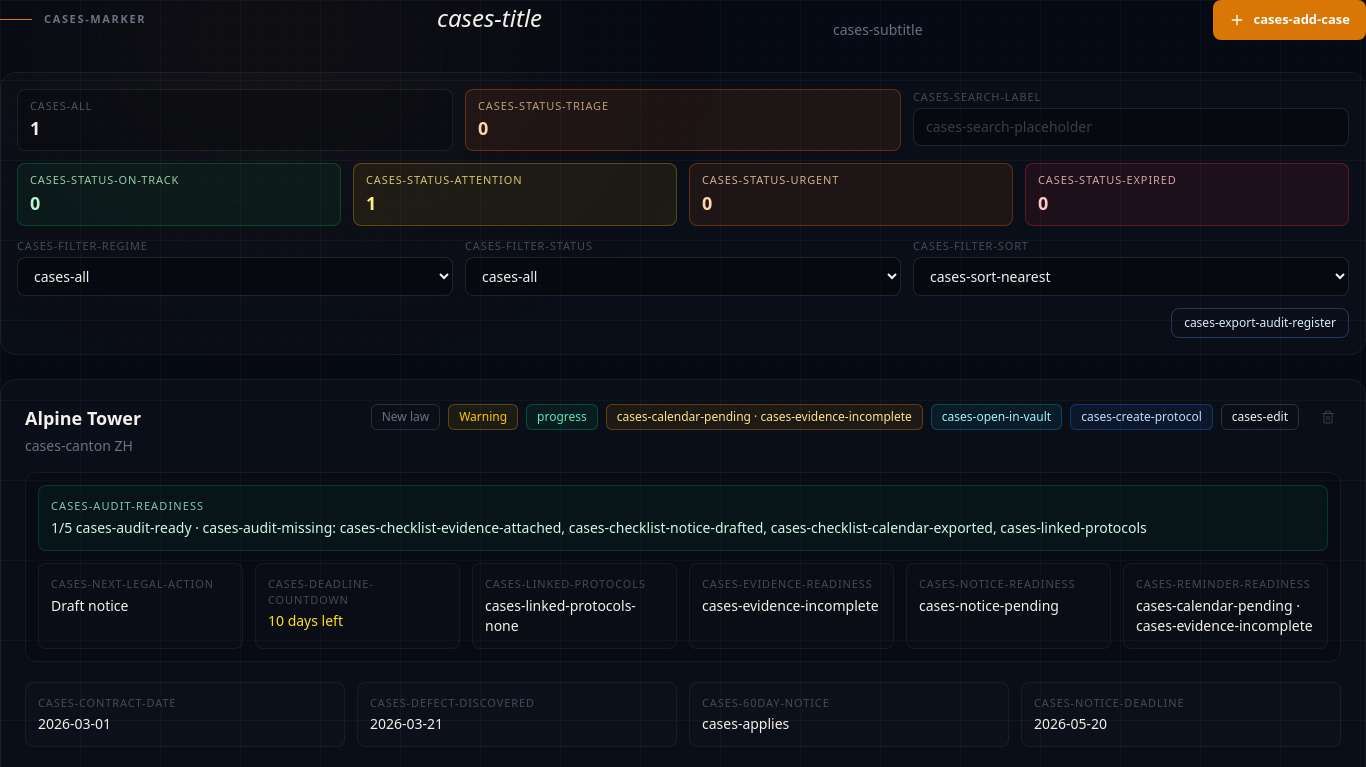
Test: cases mutation feedback › does not persist invalid acceptance chronology: cases-acceptance-after-discovery
The width and height of the screenshot is (1366, 767).
Check: the heading "Alpine Tower" is shown, box [25,404,141,432]
Click the button "cases-add-case" at {"x": 1290, "y": 20}, box [1214,0,1365,40]
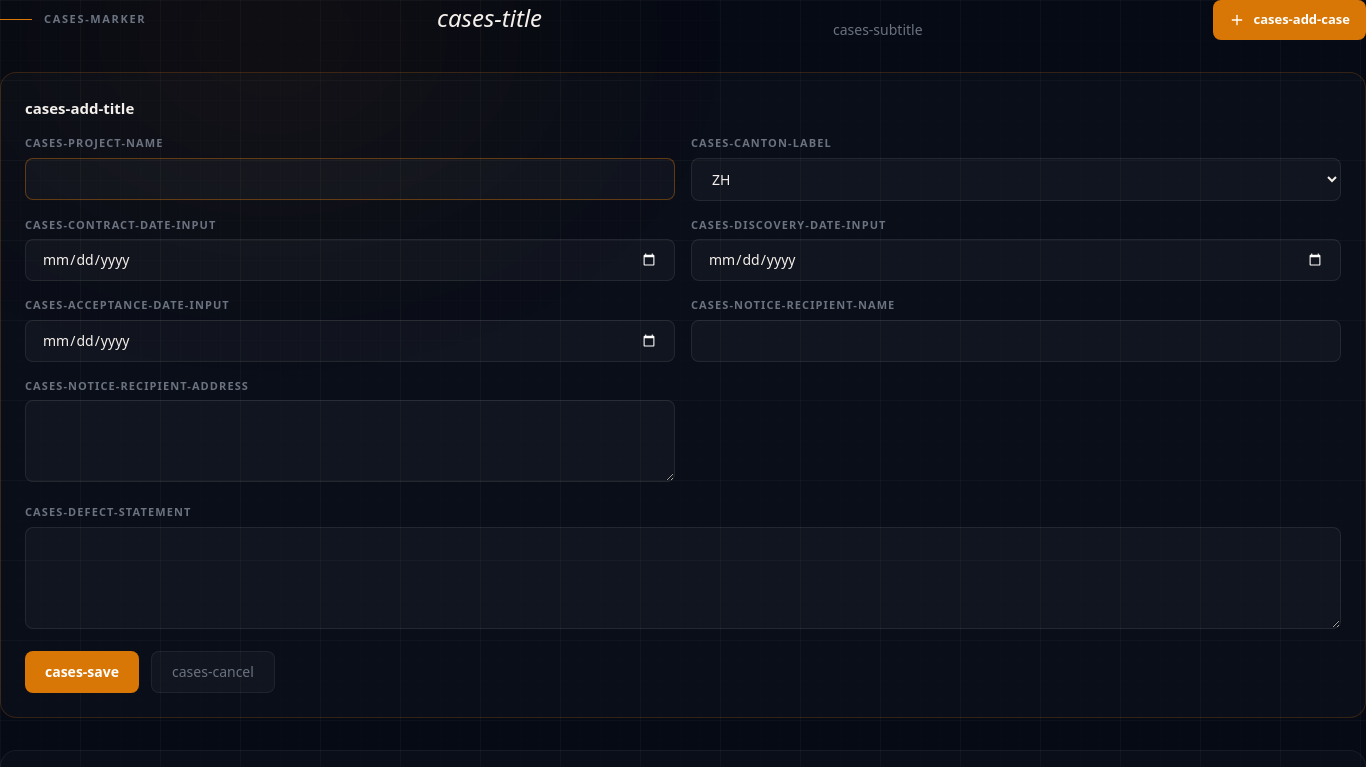
Type "Invalid acceptance" into the field labelled "cases-project-name" at {"x": 350, "y": 178}, box [25,158,675,200]
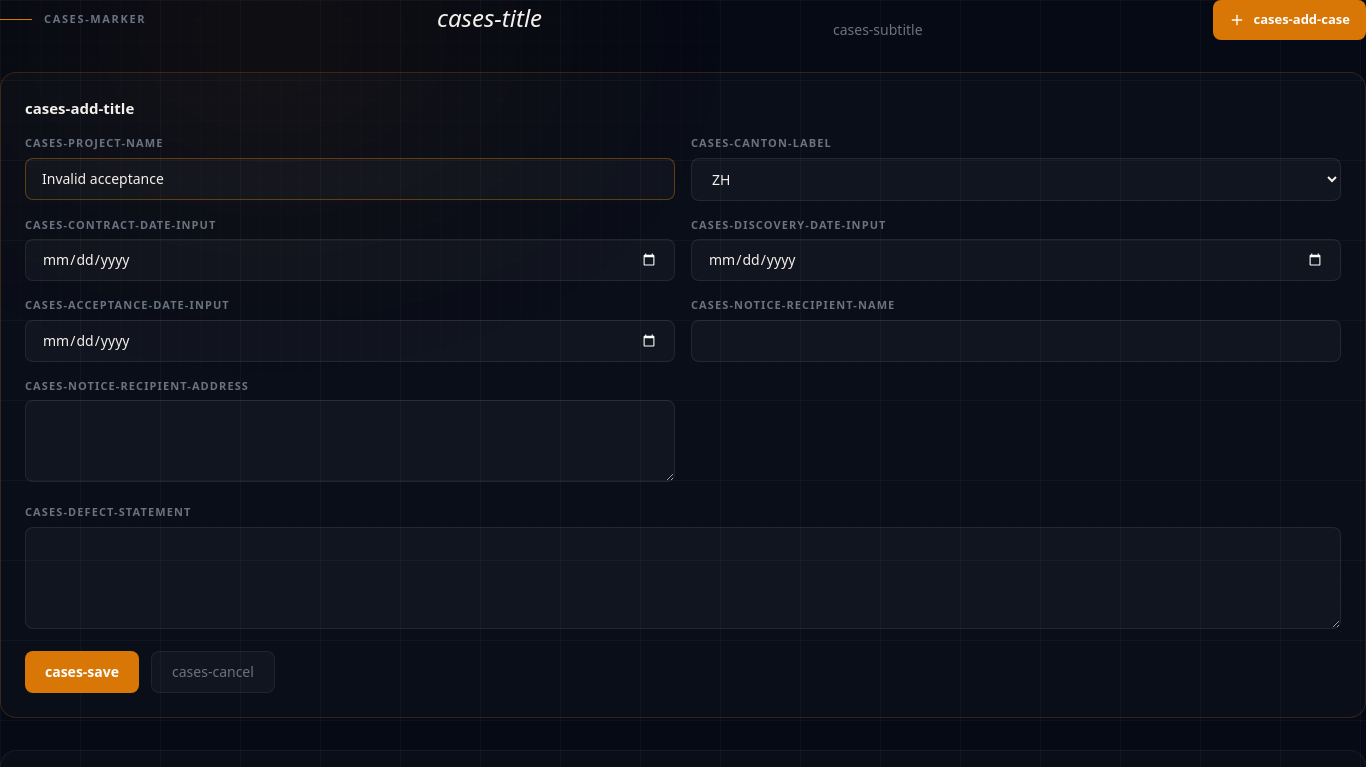
Type "2026-04-01" into the date field labelled "cases-contract-date-input" at {"x": 350, "y": 260}, box [25,239,675,281]
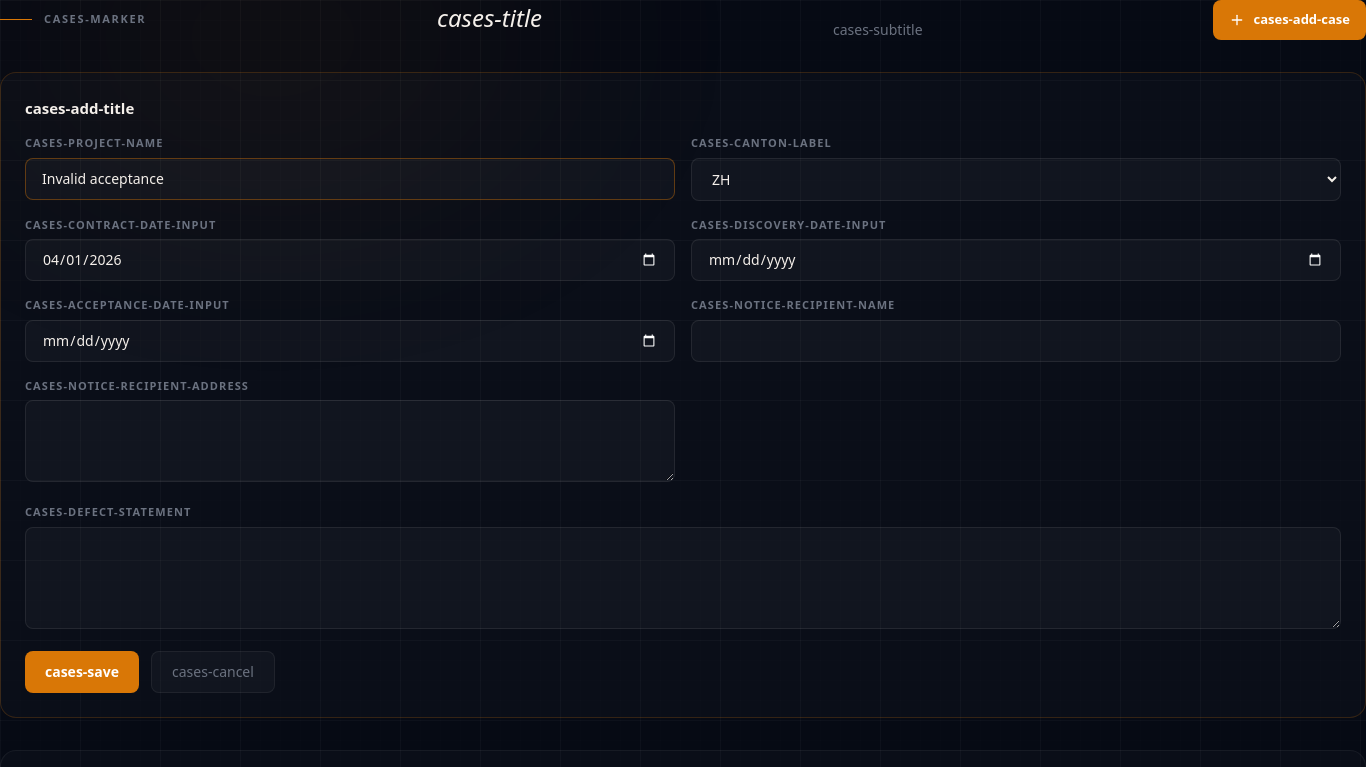
Type "2026-04-20" into the date field labelled "cases-discovery-date-input" at {"x": 1016, "y": 260}, box [691,239,1341,281]
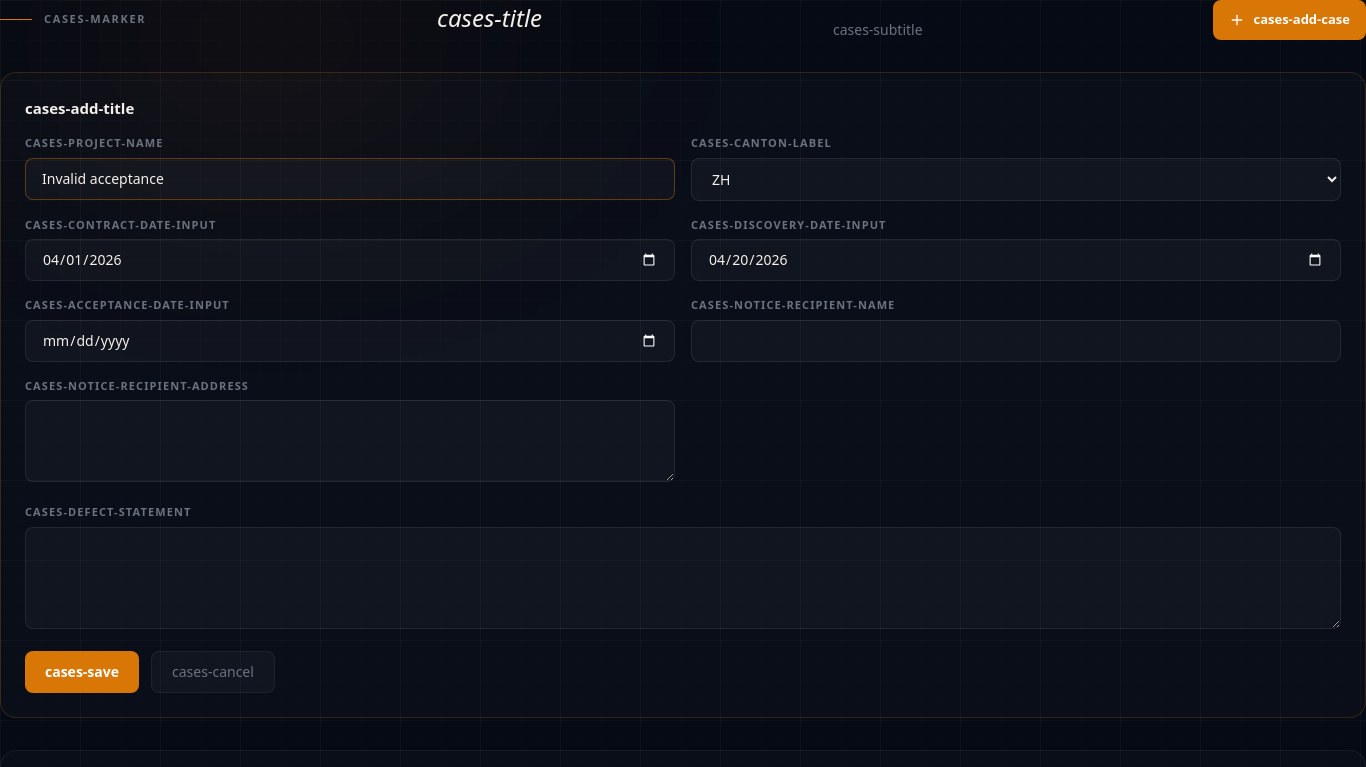
Type "2026-04-21" into the date field labelled "cases-acceptance-date-input" at {"x": 350, "y": 340}, box [25,320,675,362]
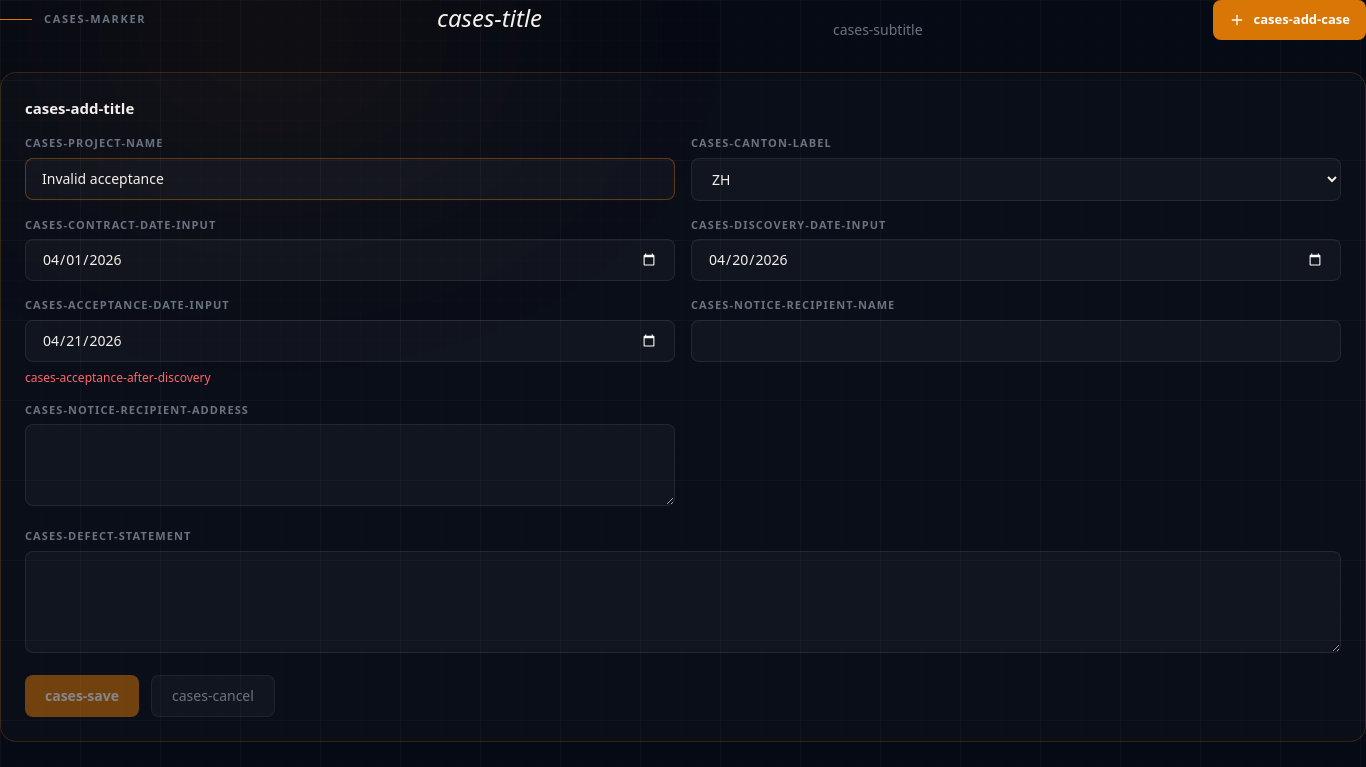
Check: the text "cases-acceptance-after-discovery" is shown, box [25,368,211,386]
Check: the button "cases-save" is disabled, box [25,674,139,716]
